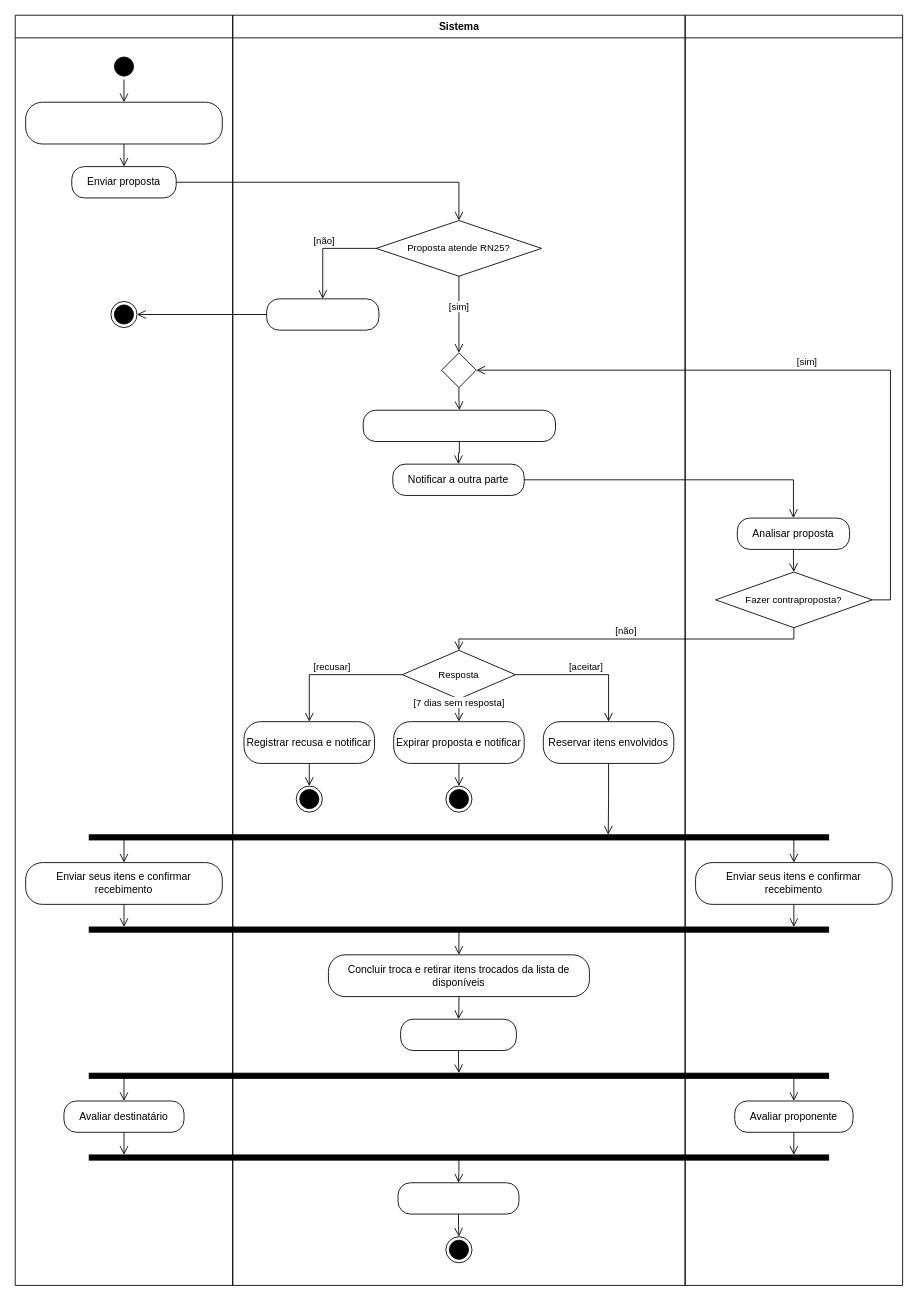
Some shapes in this 918 by 1301 pixel diagram are drawn without their labels. The box of each missing label's shape, as (x1, y1, x2, y2) in pixels:
Atualizar reputação: (397, 1182, 519, 1214)
Destinatário: (684, 14, 903, 1285)
Informar o motivo: (266, 298, 379, 330)
Liberar avaliações: (400, 1018, 516, 1051)
Proponente: (14, 14, 233, 1285)
Registrar proposta como pendente: (362, 409, 555, 442)
Selecionar itens do destinatário e itens próprios: (25, 101, 222, 144)
